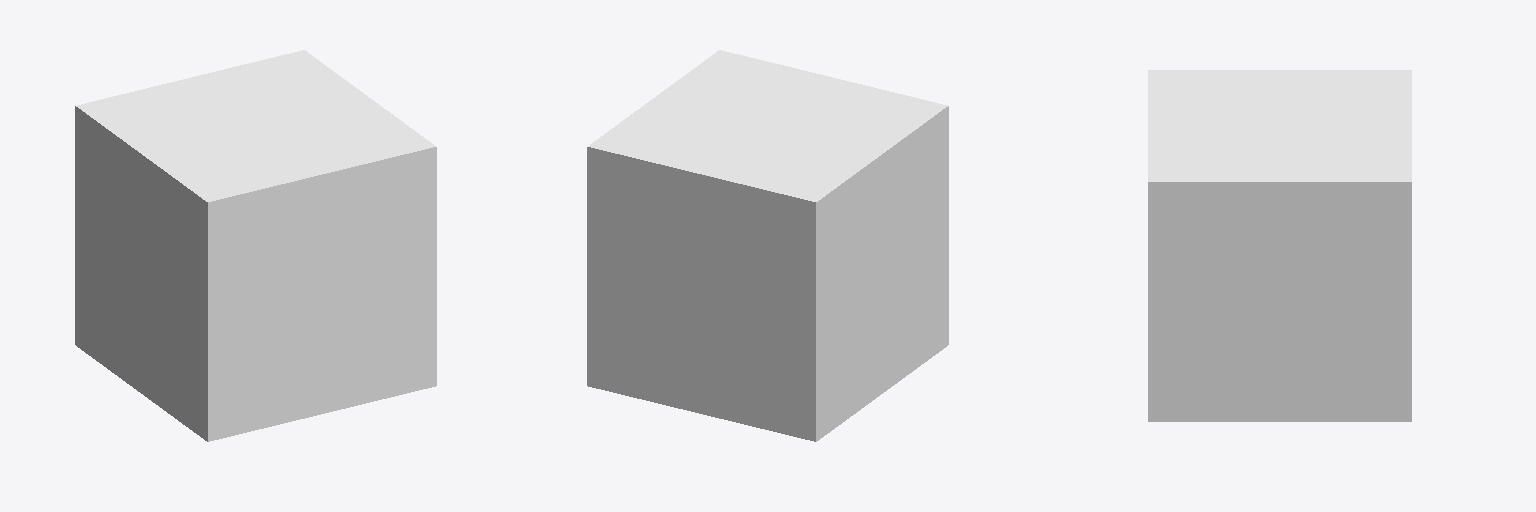
Rendered from Obstacle_1x1_1.obj.
3 renders of one model, left to right at view 1: azimuth 30°, elevation 25°; view 2: azimuth 150°, elevation 25°; view 3: azimuth 270°, elevation 25°, orthographic.
Visible parts, largest first — view 1: object 1; view 2: object 1; view 3: object 1.
Boxes of the visible parts, <box> form: object 1: <box>75,50,436,441</box>; object 1: <box>587,50,948,441</box>; object 1: <box>1148,70,1411,421</box>.
Bounding box in the file's own units: 1.2 × 1.3 × 1.2.